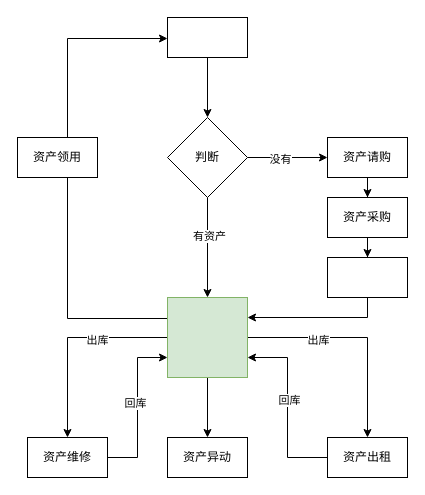
The diagram is 425 pixels wide and 495 high, and some of its shapes have lost their labels. Each missing label, with the centre of its shape:
资产入库 （验收）: the point at 367,277
资产台账: the point at 207,337
资产申请单: the point at 207,37
